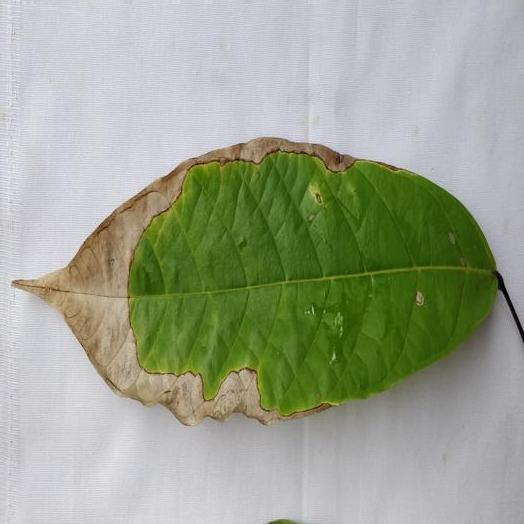Potassium: (14, 138, 499, 423)
